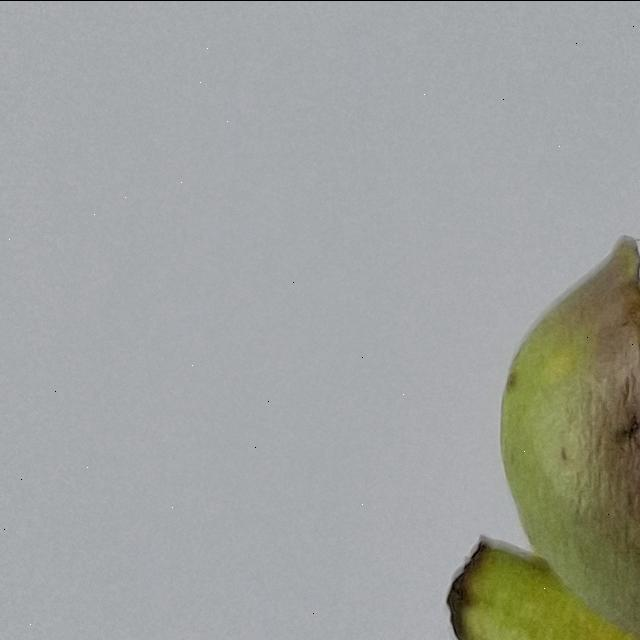mangosteen: (420, 0, 640, 640)
